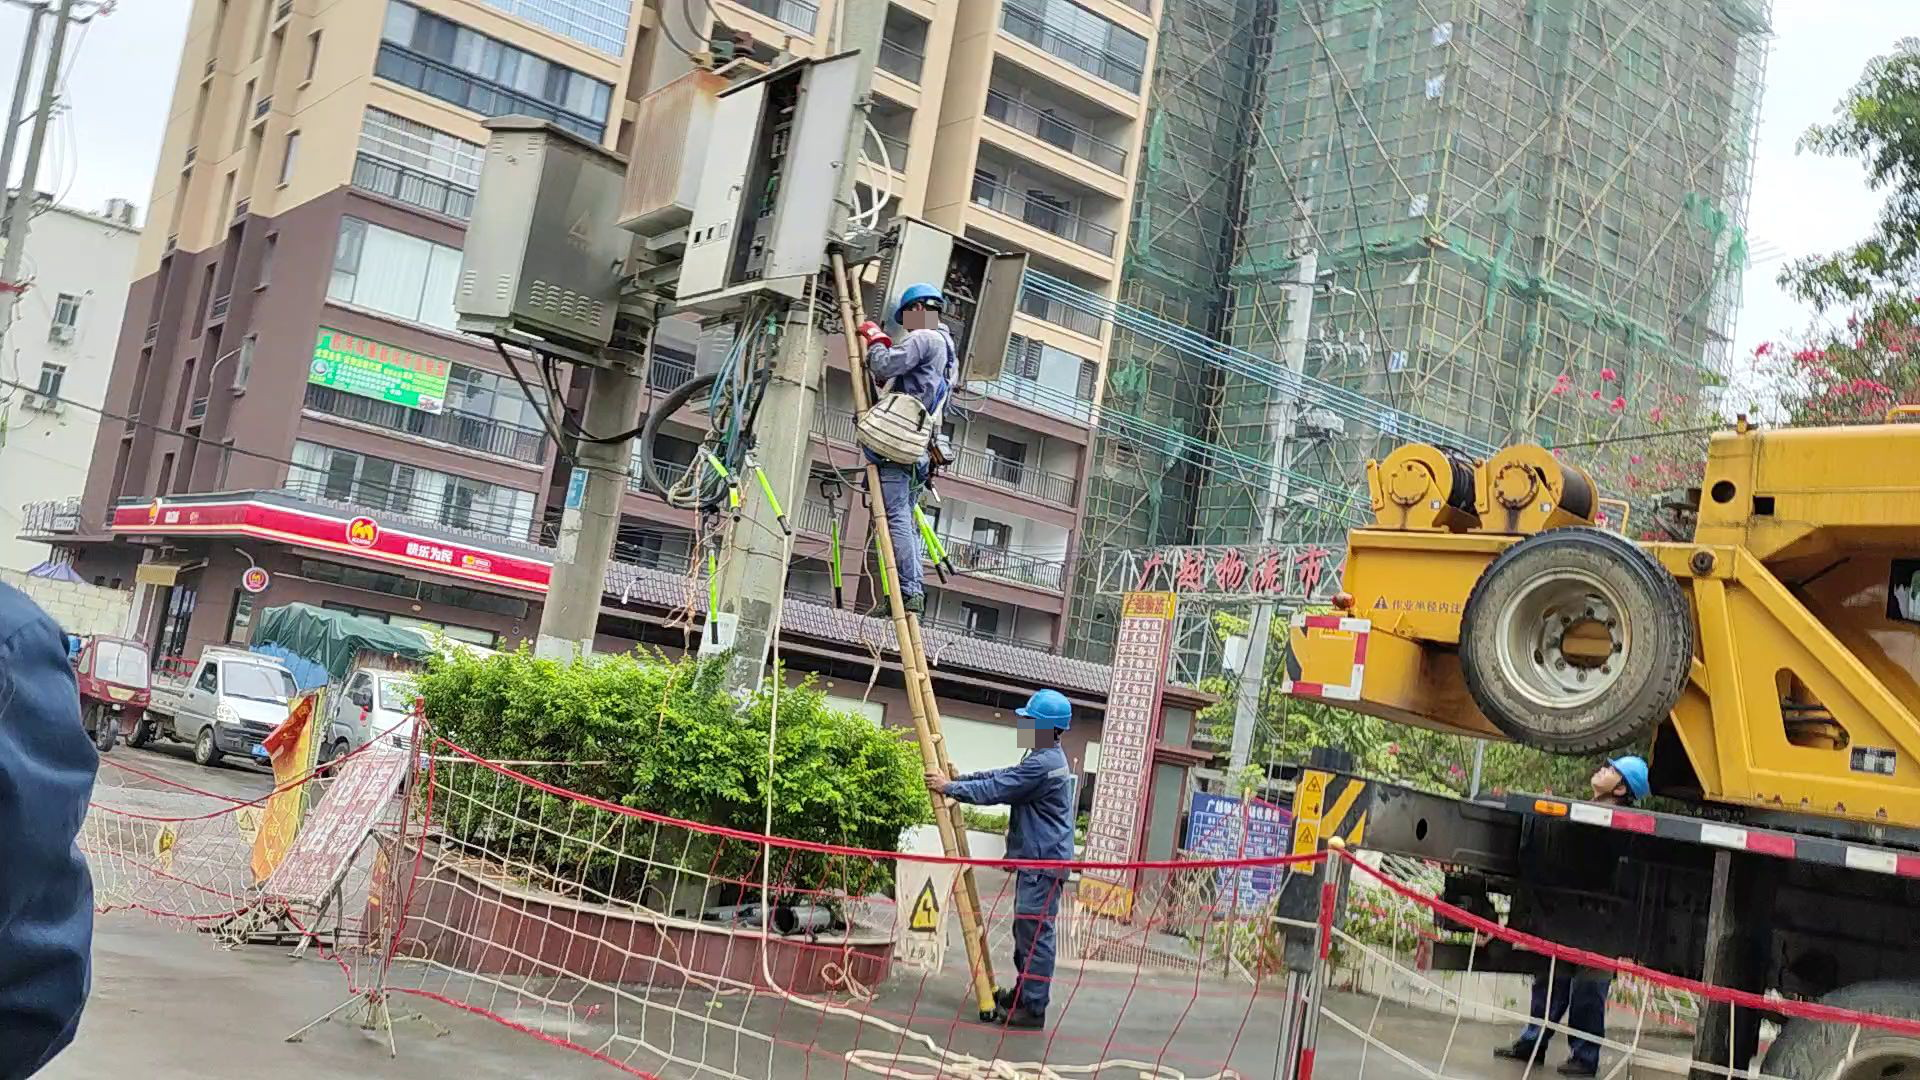downsuit: (1521, 925, 1610, 1059), (870, 457, 930, 597), (1012, 868, 1069, 994)
halt: (1592, 754, 1652, 808), (1017, 690, 1074, 745), (894, 285, 949, 333)
hand: (916, 752, 956, 790)
inear: (1027, 714, 1067, 745), (1600, 772, 1635, 805), (903, 297, 931, 327)
longglove: (858, 319, 898, 352)
person: (937, 688, 1083, 1014), (1525, 752, 1654, 1080), (847, 281, 961, 598)
support: (899, 673, 1104, 1033)
upsuit: (1, 540, 102, 1053), (945, 745, 1081, 861), (870, 330, 954, 448)
